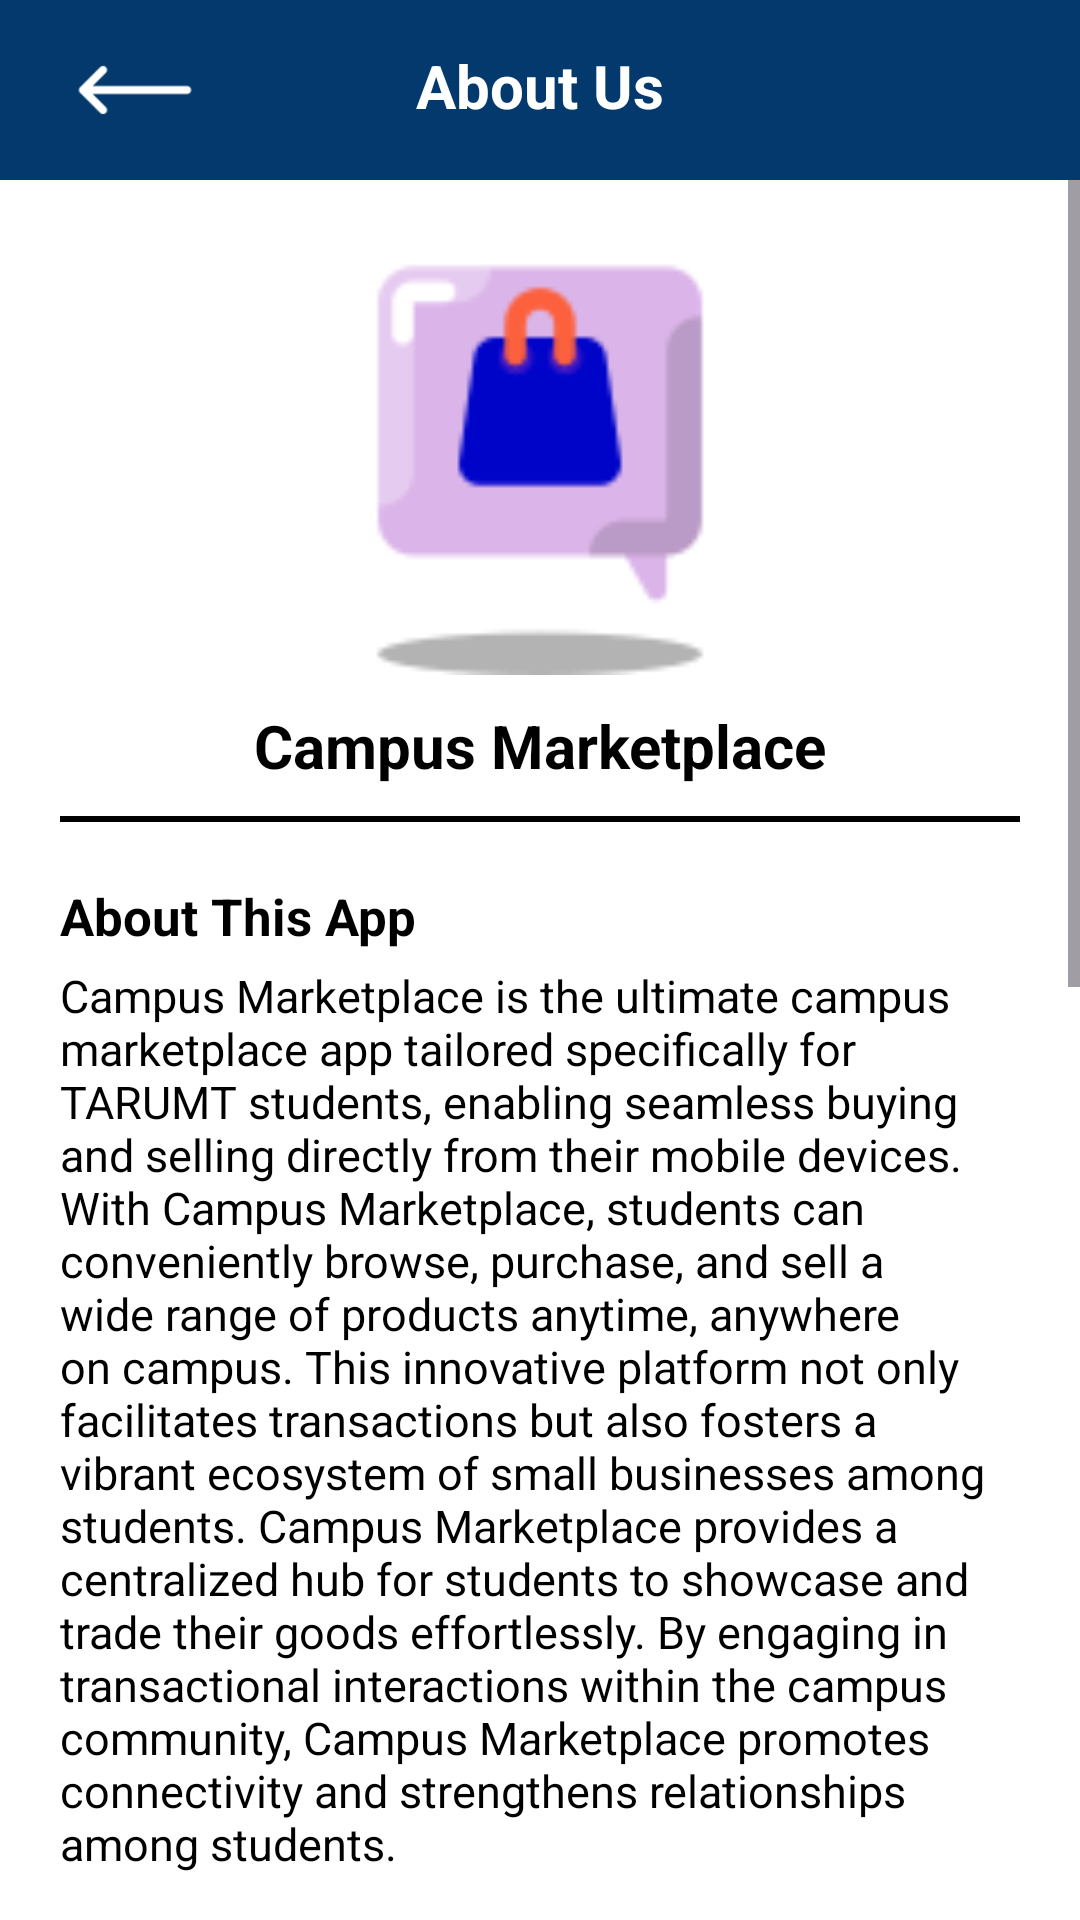

Icons on this 1080 x 1920 Android screen, each with its box as (x1, y1, x2, y2):
Up Button Image: (78, 66, 192, 114)
